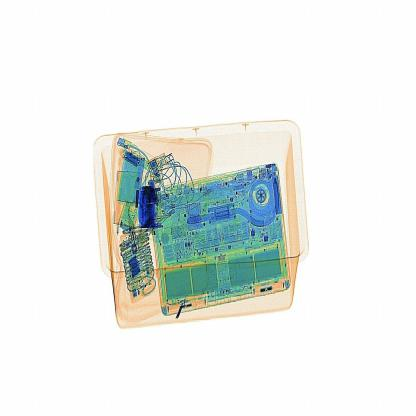scissors: (133, 179, 170, 243)
